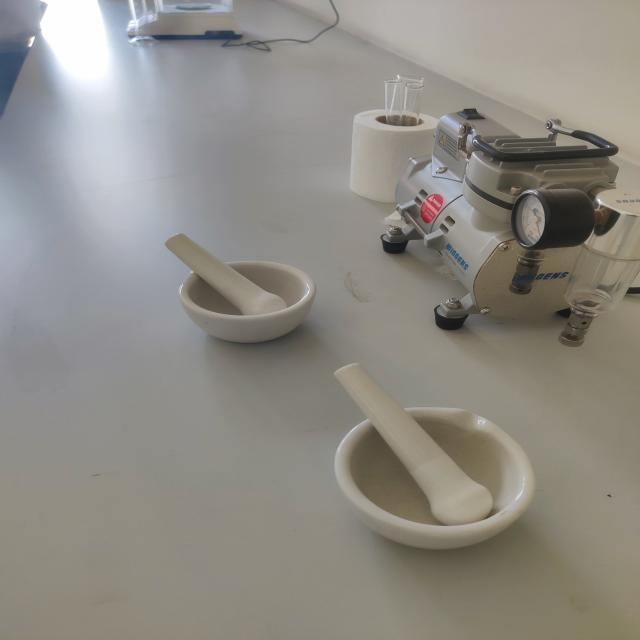Porcelain_Mortar Pestle: (306, 351, 568, 564), (148, 218, 334, 359)
